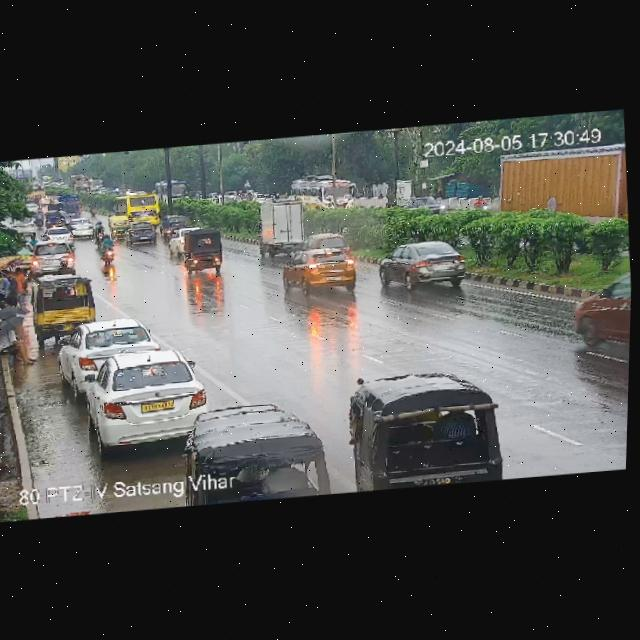bus: (291, 168, 355, 206), (111, 191, 161, 219)
car: (343, 369, 510, 492), (185, 394, 330, 505), (83, 347, 209, 448), (60, 317, 161, 385), (568, 269, 632, 357), (379, 236, 475, 293), (30, 271, 100, 330), (284, 244, 362, 296), (177, 228, 228, 271), (25, 240, 77, 276), (398, 193, 446, 216), (67, 216, 102, 240), (41, 224, 74, 249), (110, 214, 135, 240), (8, 214, 35, 237), (160, 214, 189, 232)
motorcycle: (99, 235, 115, 264), (471, 195, 494, 211), (159, 215, 172, 240), (93, 220, 104, 243), (88, 198, 97, 215), (48, 214, 58, 227)
person: (0, 299, 32, 358), (0, 264, 32, 306), (11, 263, 34, 298)
truck: (493, 143, 629, 235), (257, 195, 311, 256)
